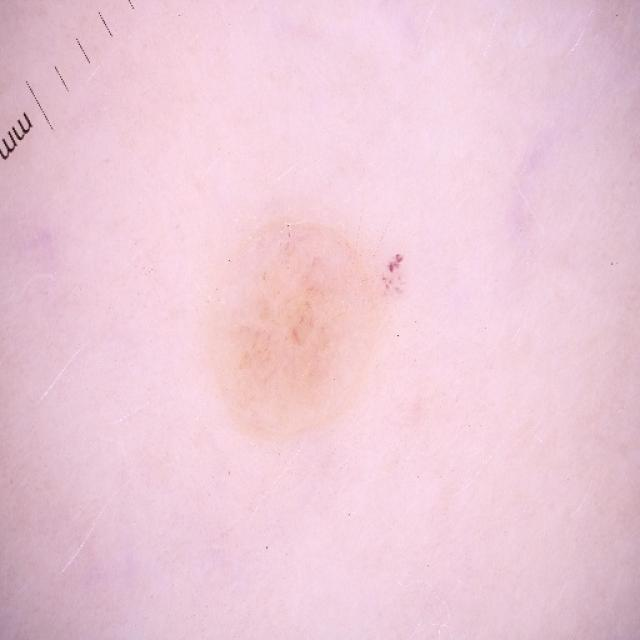Melanoma: (210, 222, 400, 432)
